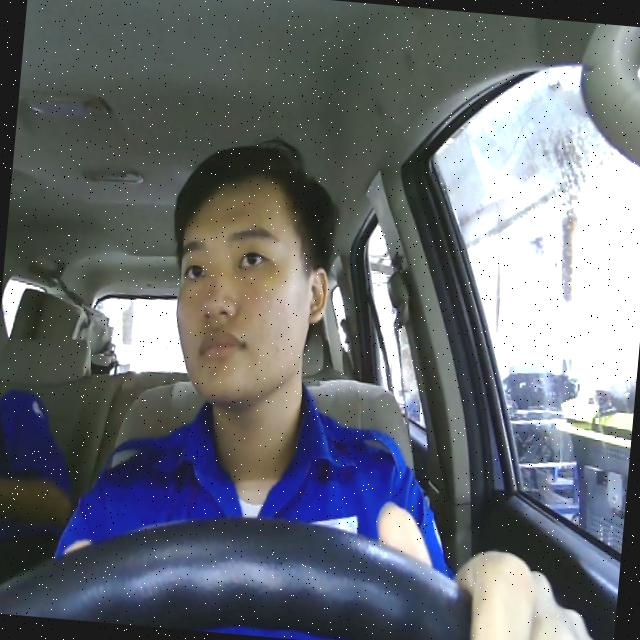seeing_left: (164, 160, 338, 412)
